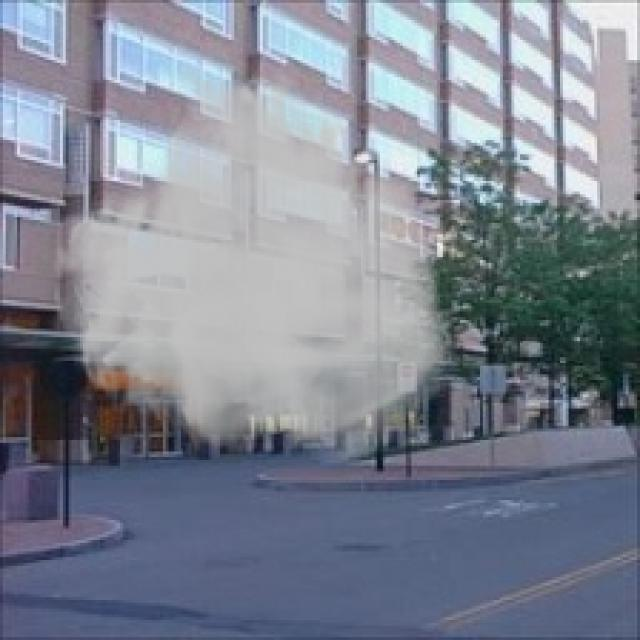smoke: (49, 54, 457, 469)
